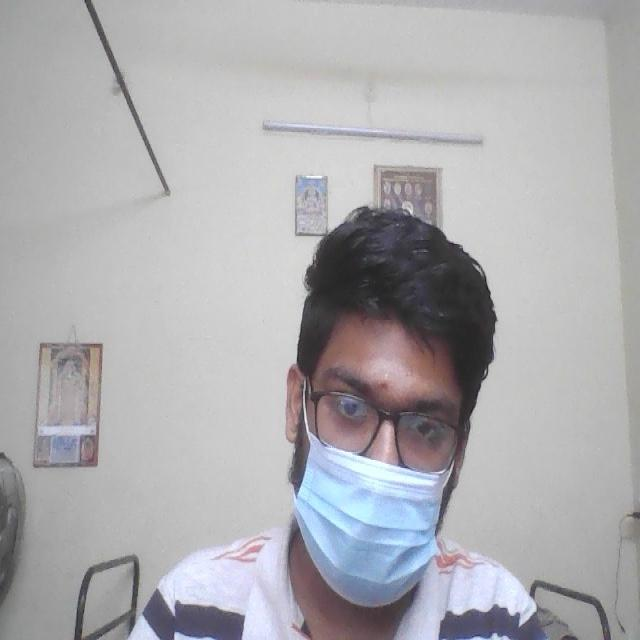Focused: (302, 332, 467, 559)
